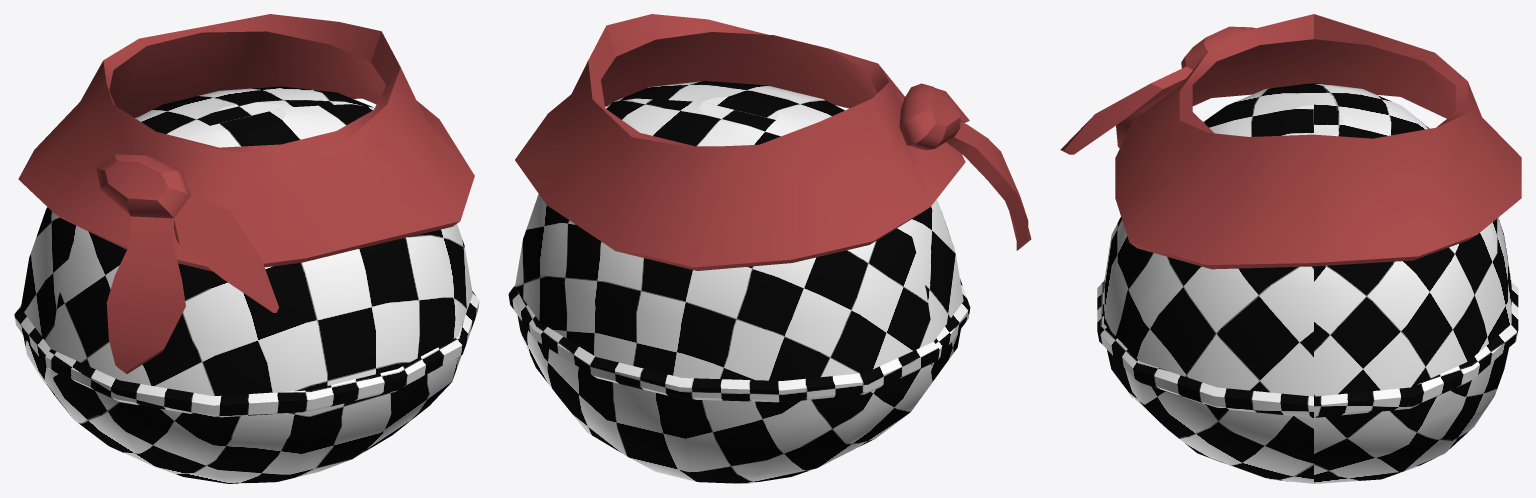
The model's file is body.fbx.
3 views of the same model, side by side, from view 1: azimuth 30°, elevation 25°; view 2: azimuth 150°, elevation 25°; view 3: azimuth 270°, elevation 25° (orthographic). The views are drawn at different scales.
Parts seen in each view (by area): view 1: body, scarf; view 2: body, scarf; view 3: body, scarf.
Boxes of the visible parts, bbox=[...] form: body: bbox=[14, 86, 479, 483]; scarf: bbox=[18, 14, 474, 374]; body: bbox=[508, 81, 970, 483]; scarf: bbox=[515, 14, 1031, 270]; body: bbox=[1097, 83, 1518, 483]; scarf: bbox=[1060, 14, 1521, 269].
Size of the model in its own units: 93.33 by 83.93 by 91.49.
2 materials, 1 textured.
